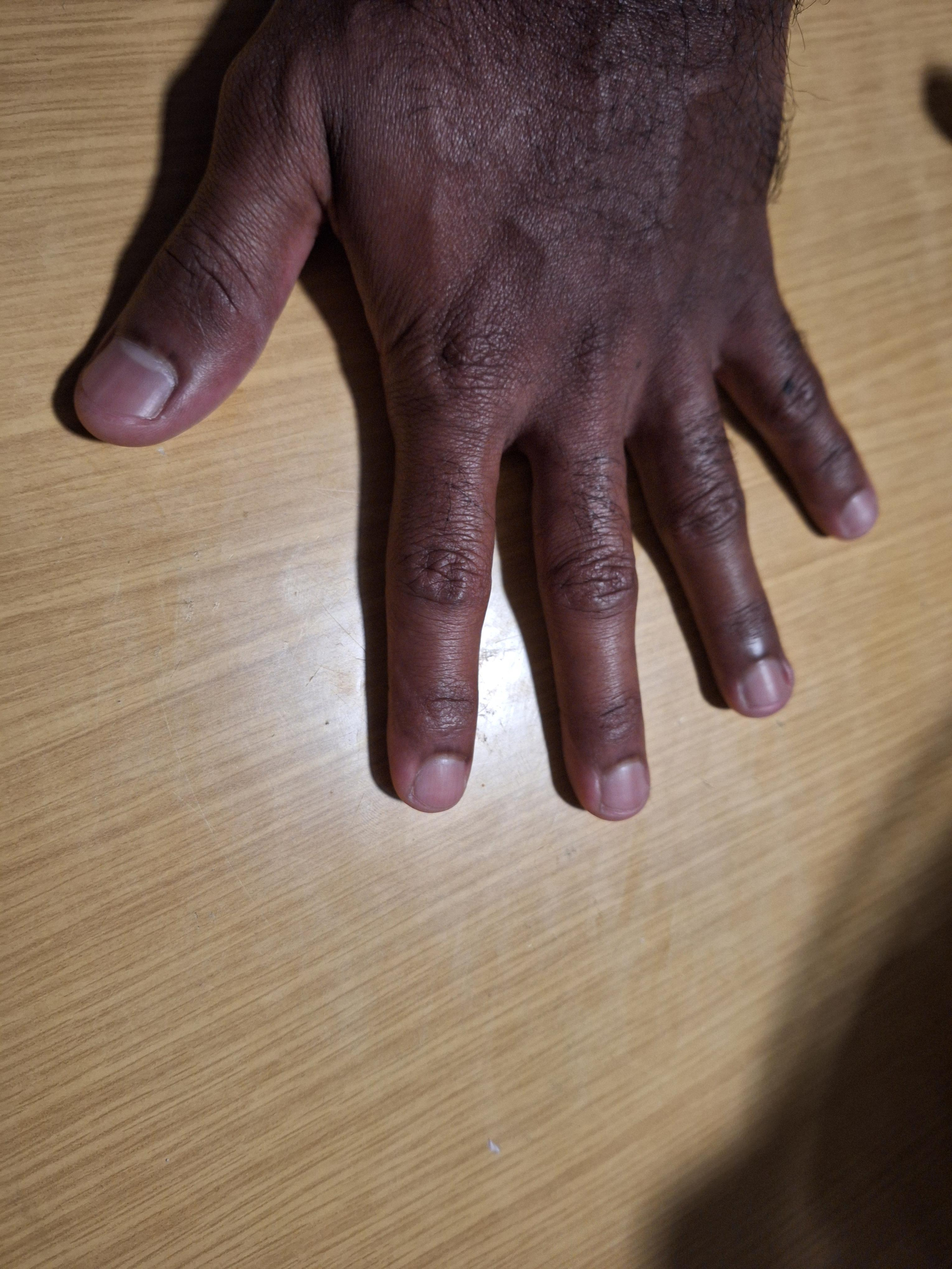Fingernail: (83, 334, 177, 420), (412, 759, 466, 810), (601, 762, 648, 811), (742, 664, 786, 707), (841, 496, 875, 534)
